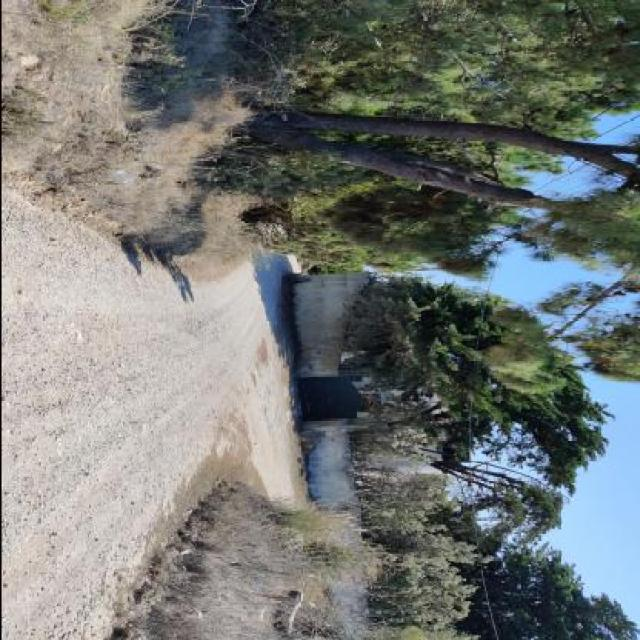plastic: (112, 169, 133, 183)
